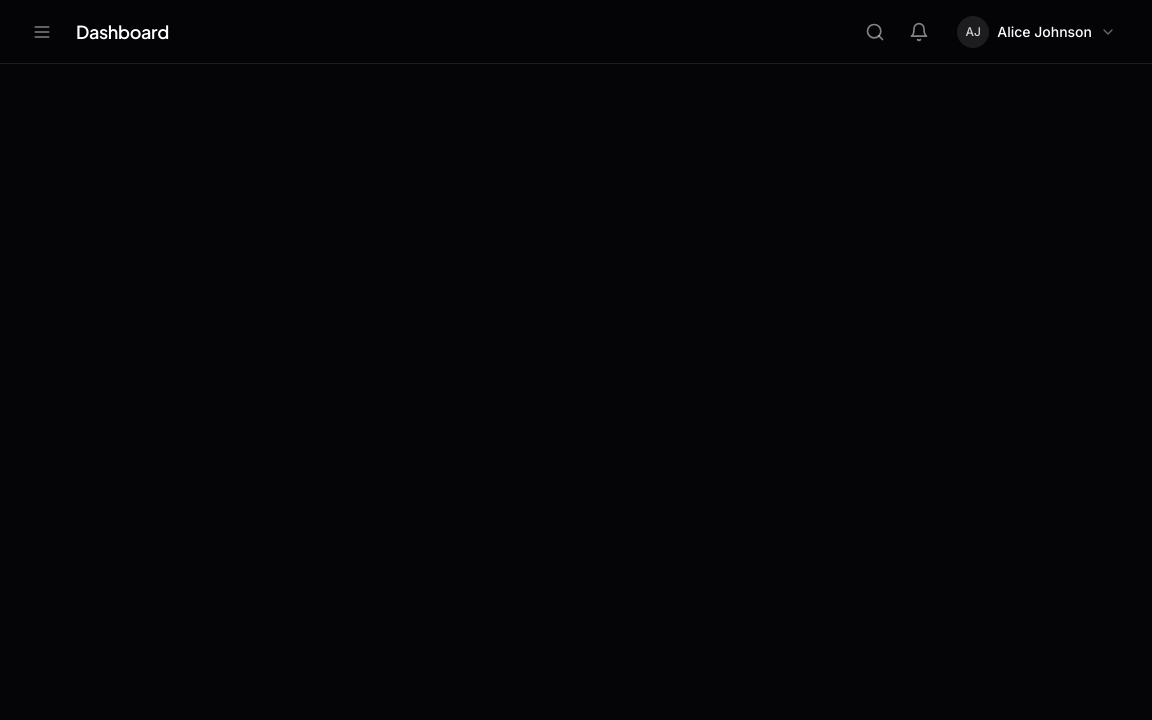
Scenario: Header › closes user menu on outside click
Step 1. Click the button with aria-label "User menu" → point(1037, 32), box [945, 10, 1128, 54]
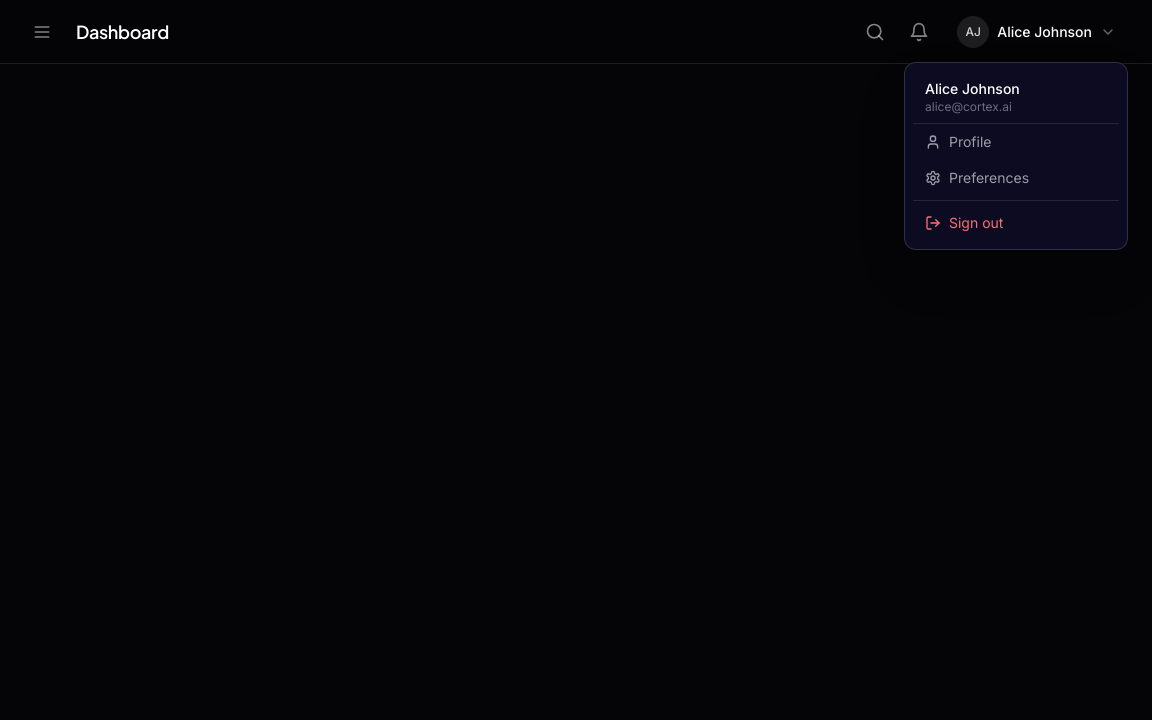
Now the menu is shown, box [904, 62, 1128, 250]
Step 2. Press the mouse on the element that starts with "Dashboard" → point(576, 360), box [0, 0, 1151, 719]
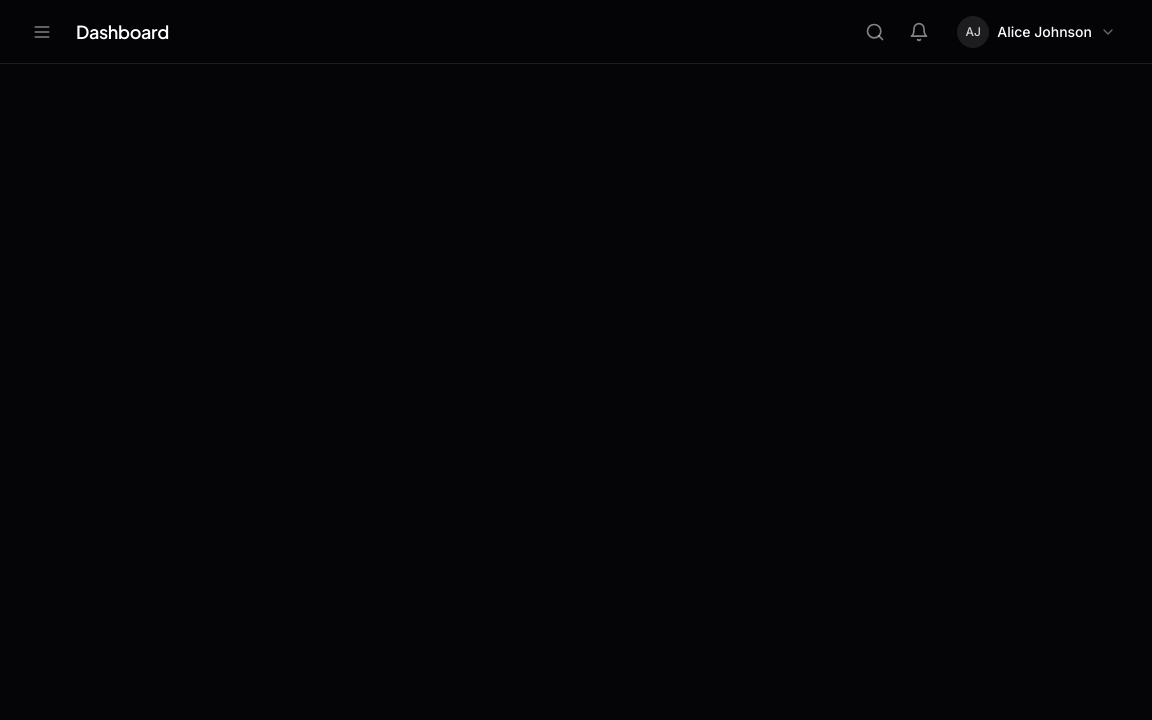
Now the menu is gone
